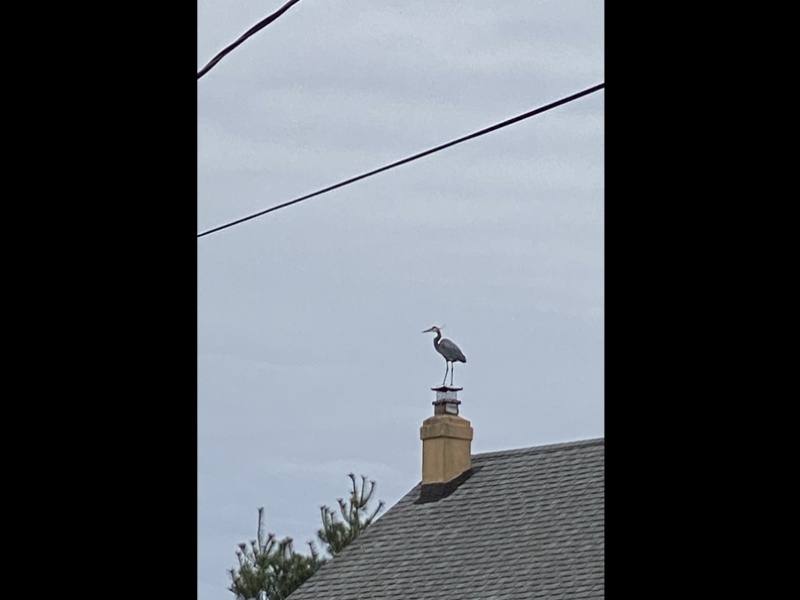heron: (421, 322, 472, 390)
